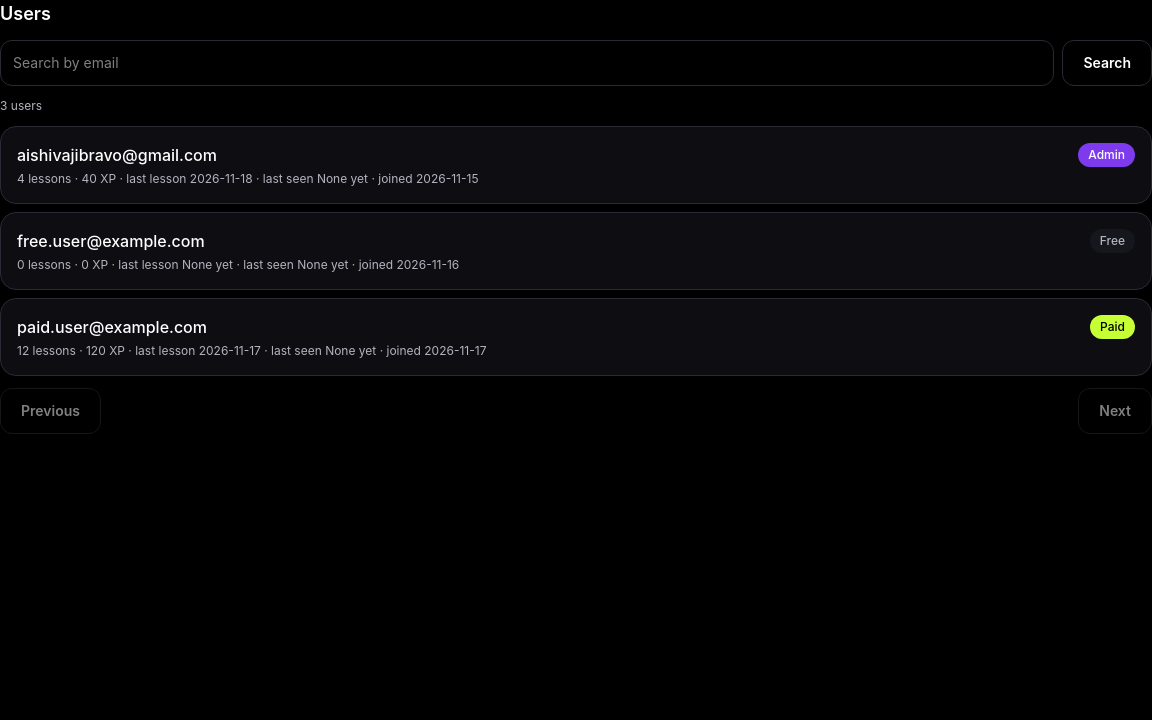
it: admin console › offers Change to Free for a paid user
Click the text "paid.user@example.com". click: (112, 327)
box: [17,315,207,339]
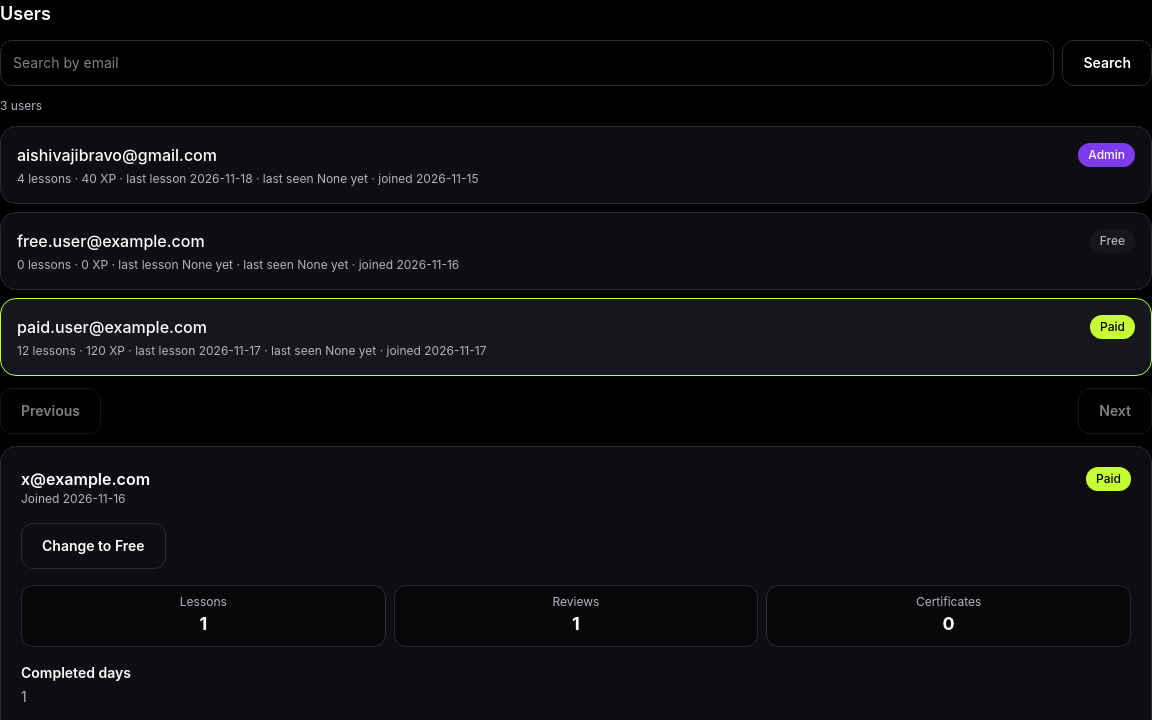
Check: the button "Change to Free" is shown, box [21,523,166,569]
